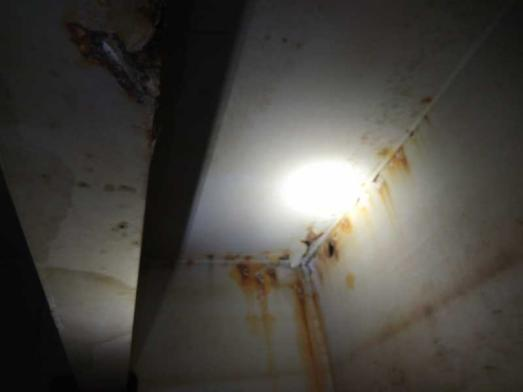corrosion: (291, 258, 327, 387), (232, 264, 277, 345), (380, 140, 434, 180), (362, 171, 402, 212), (316, 232, 352, 267), (333, 206, 362, 236)
